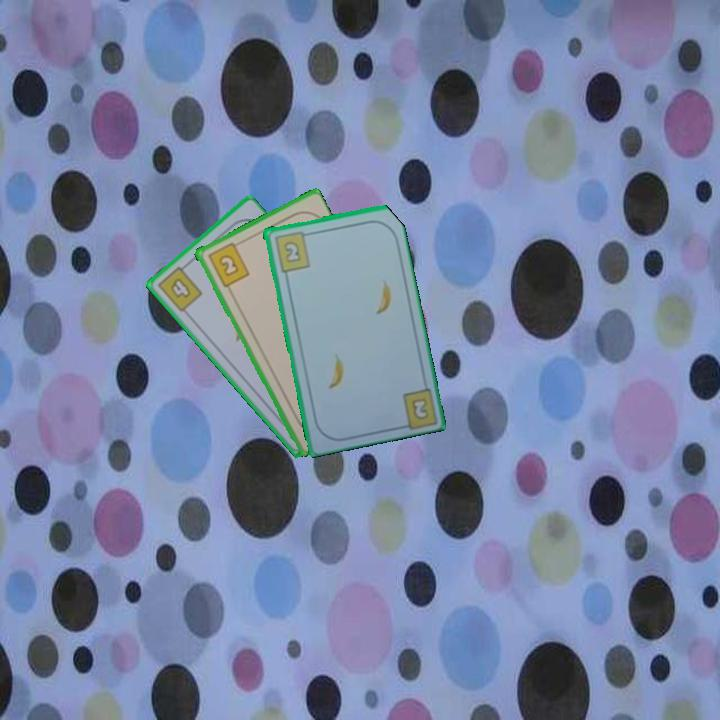2b: (204, 238, 252, 290), (271, 228, 313, 274), (408, 394, 432, 423)
4b: (154, 260, 205, 315)
